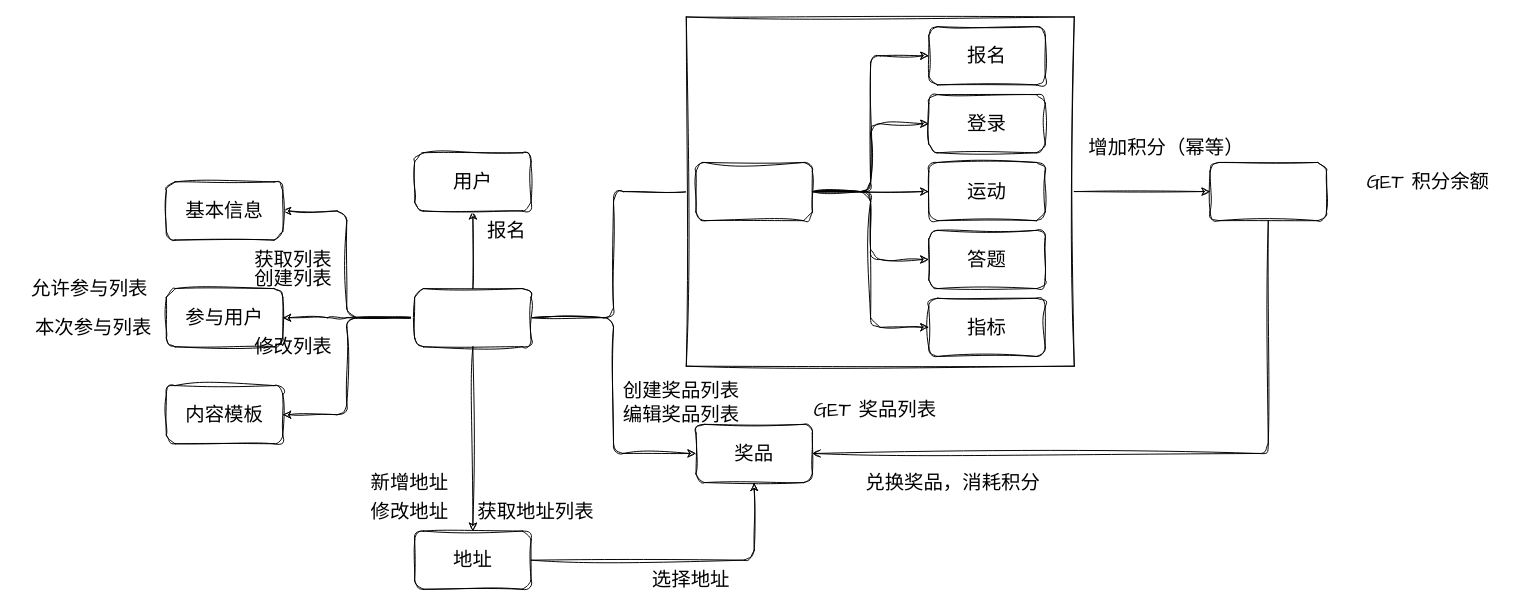
The diagram is 1517 pixels wide and 609 high, and some of its shapes have lost their labels. The box of each missing label's shape, as (x1, y1, x2, y2) in pixels:
任务: (695, 162, 812, 221)
活动: (414, 288, 531, 347)
积分: (1209, 162, 1326, 221)
